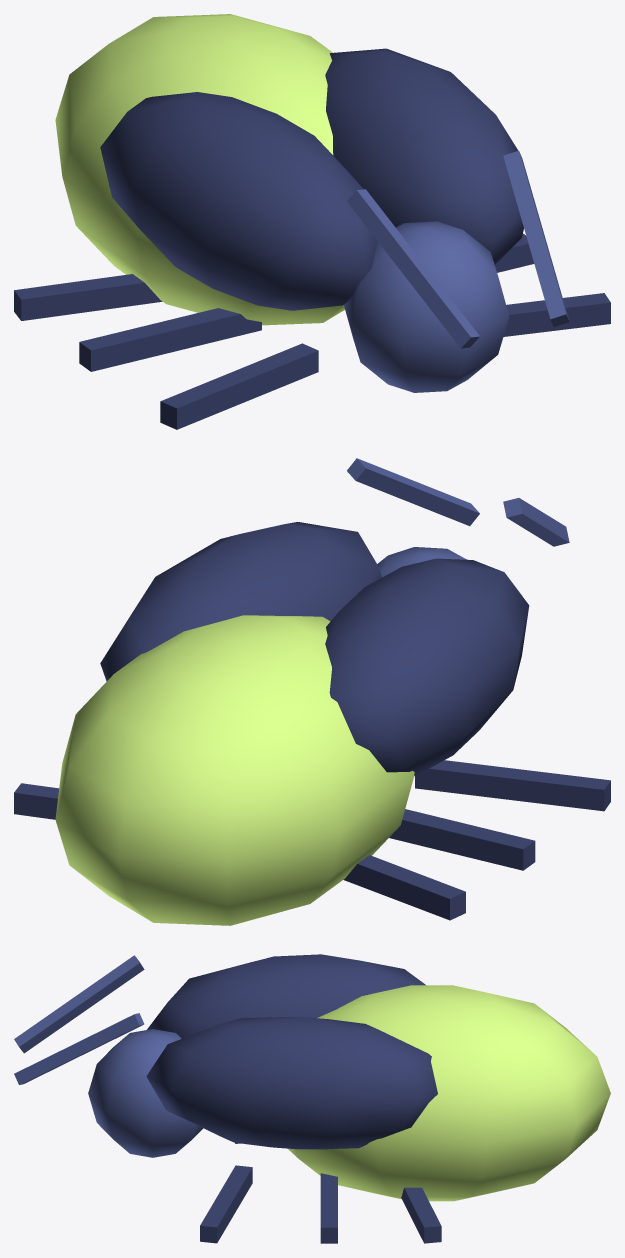
Rendered from critter_glowbeetle.glb.
3 views of the same model, one above another, from view 1: azimuth 30°, elevation 25°; view 2: azimuth 150°, elevation 25°; view 3: azimuth 270°, elevation 25° (orthographic). The views are drawn at different scales.
Visible parts, largest first — view 1: critter_glowbeetle; view 2: critter_glowbeetle; view 3: critter_glowbeetle.
Boxes of the visible parts, bbox=[...] form: critter_glowbeetle: bbox=[14, 14, 610, 429]; critter_glowbeetle: bbox=[14, 458, 610, 925]; critter_glowbeetle: bbox=[14, 954, 610, 1243].
Size of the model in its own units: 0.1302 by 0.0768 by 0.2029.
